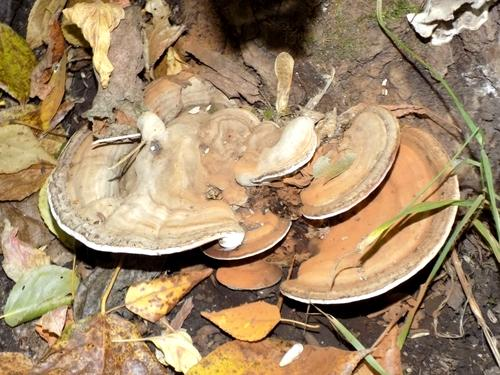Ganoderma - Fruit Body: (44, 72, 286, 262), (295, 104, 460, 308)
